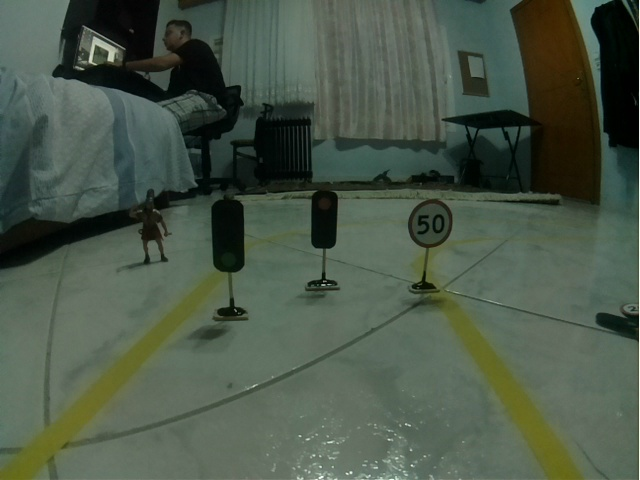Green Traffic Light: (211, 199, 245, 273)
Person: (129, 188, 172, 264)
Red Traffic Light: (310, 190, 338, 249)
Speed Limit 50: (408, 199, 453, 248)
